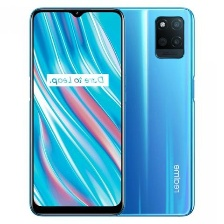phone: (88, 1, 201, 219), (27, 4, 126, 218)
